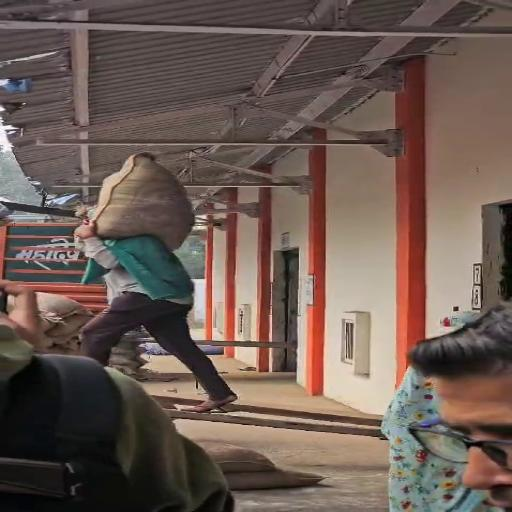bag: (87, 147, 197, 252)
